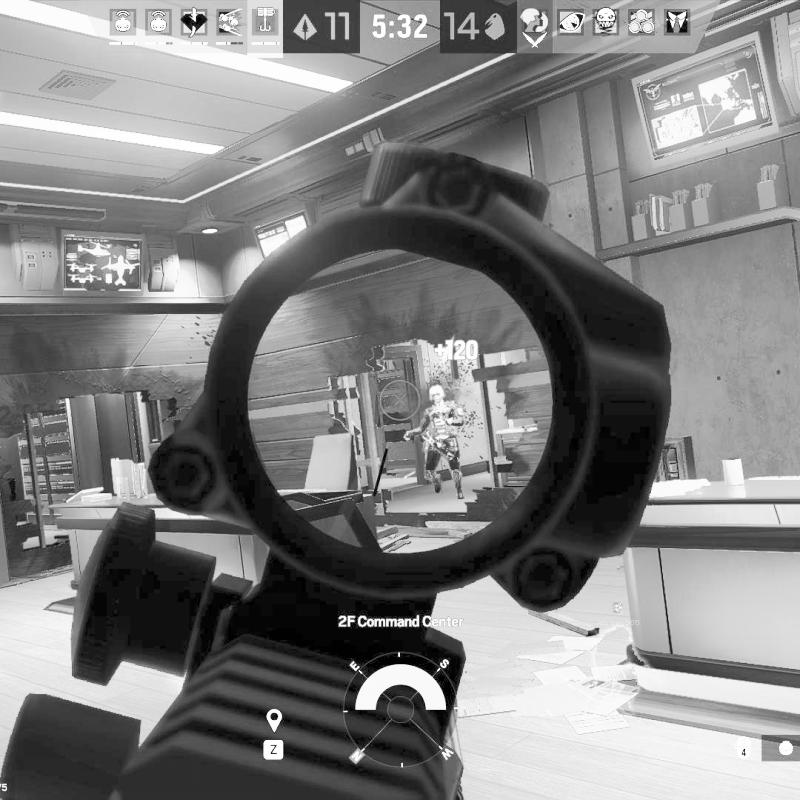Character: (403, 384, 466, 500)
Head: (429, 385, 446, 406)
